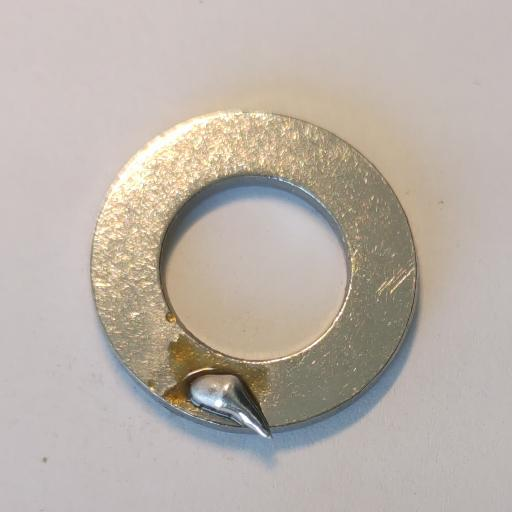excess_material: (191, 373, 273, 440)
